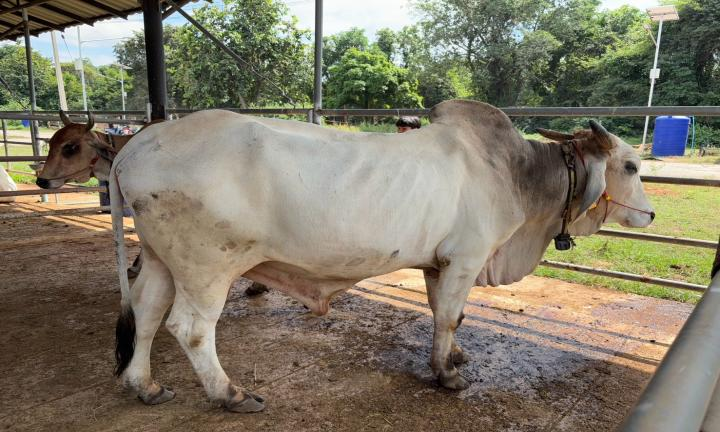Brahman: (109, 100, 654, 412)
